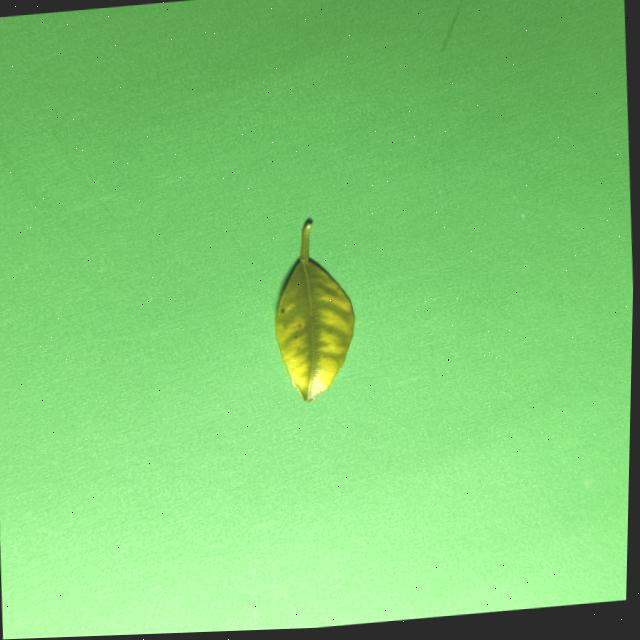greening: (275, 258, 353, 401)
